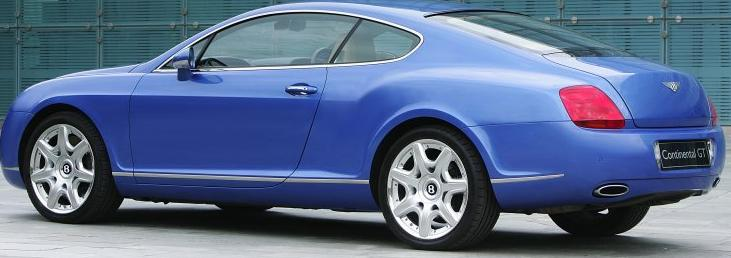back_view: (539, 61, 730, 214)
backlight: (555, 79, 630, 135)
side_glass: (150, 9, 426, 75)
